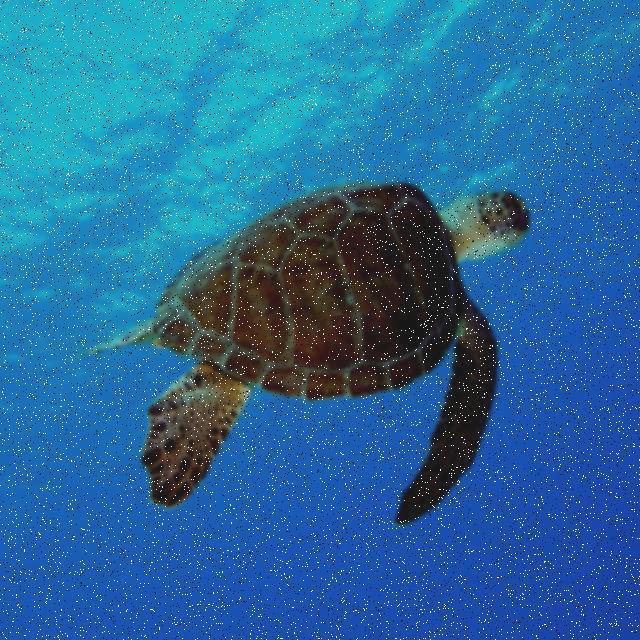tortoise: (93, 170, 547, 522)
